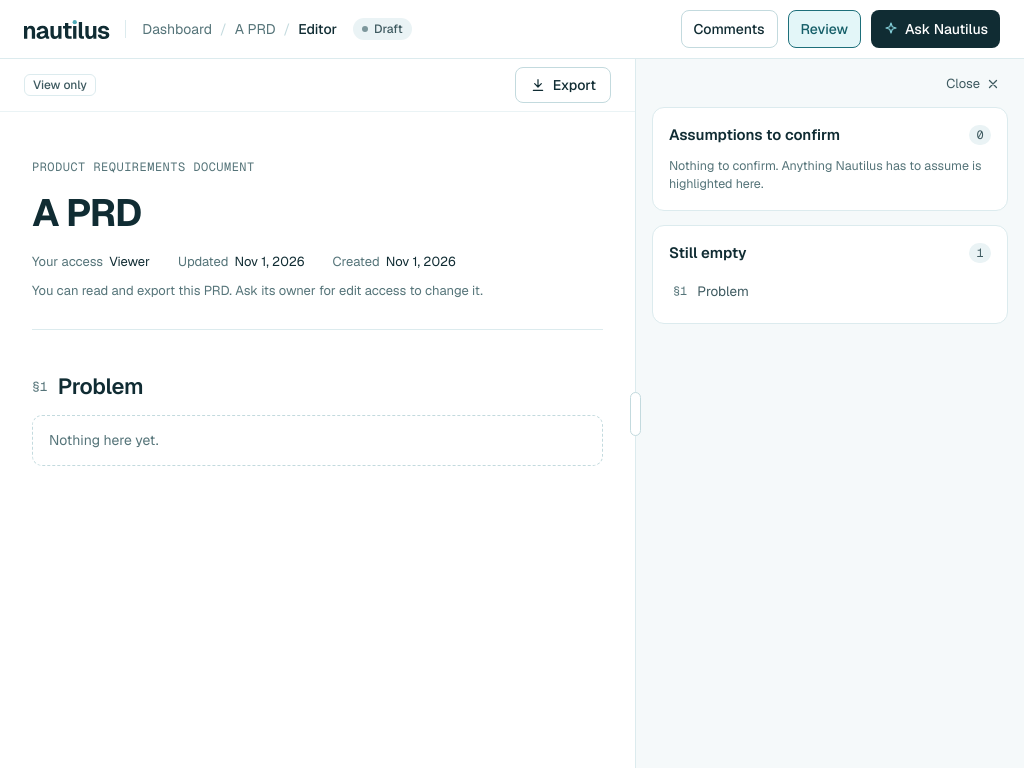
Test: EditorPage access › keeps Ask Nautilus for viewers (Decision 5)
Click the button "Ask Nautilus".
click(936, 29)  # box [871, 10, 1000, 48]
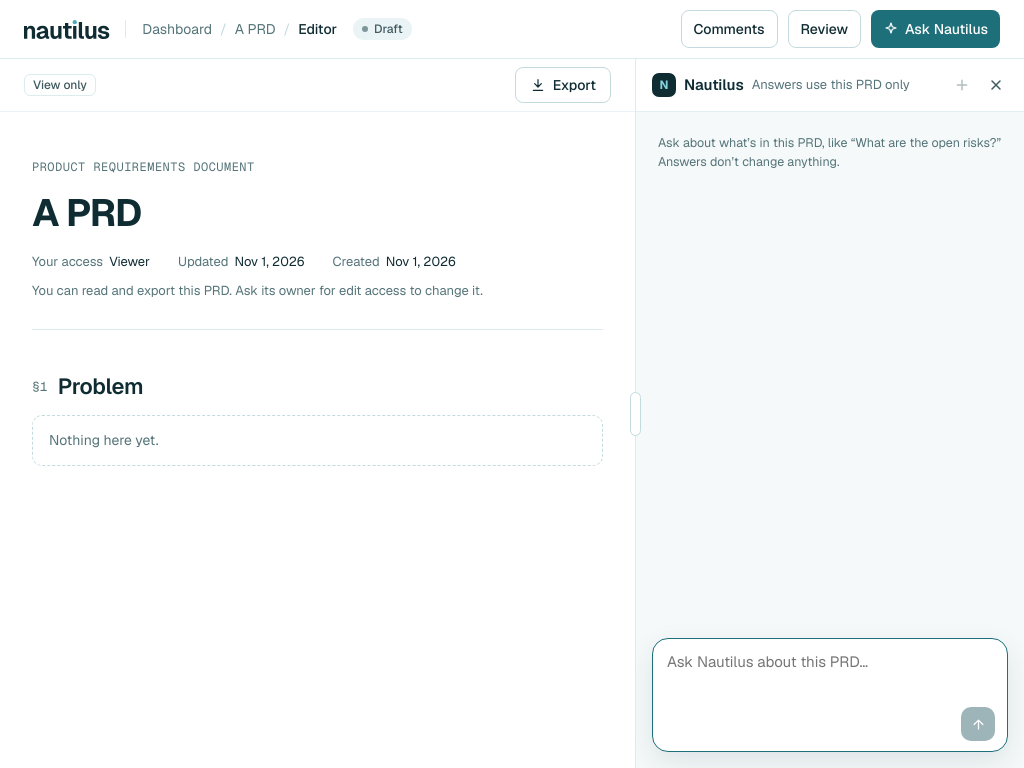
Result: the element with class "ne-chat" is shown at [636, 59, 1023, 767]
